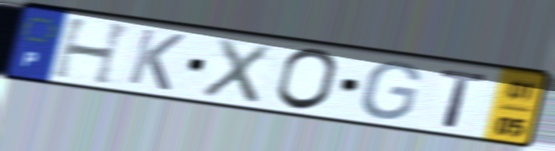G: (358, 60, 424, 122)
H: (49, 16, 138, 88)
K: (123, 26, 188, 93)
O: (272, 47, 341, 114)
T: (437, 67, 492, 131)
X: (197, 35, 275, 106)
